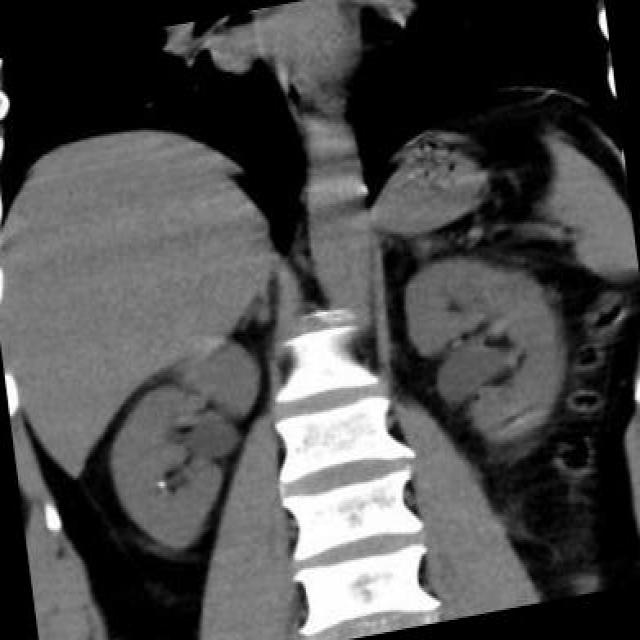Tas_Var: (150, 471, 172, 495)
